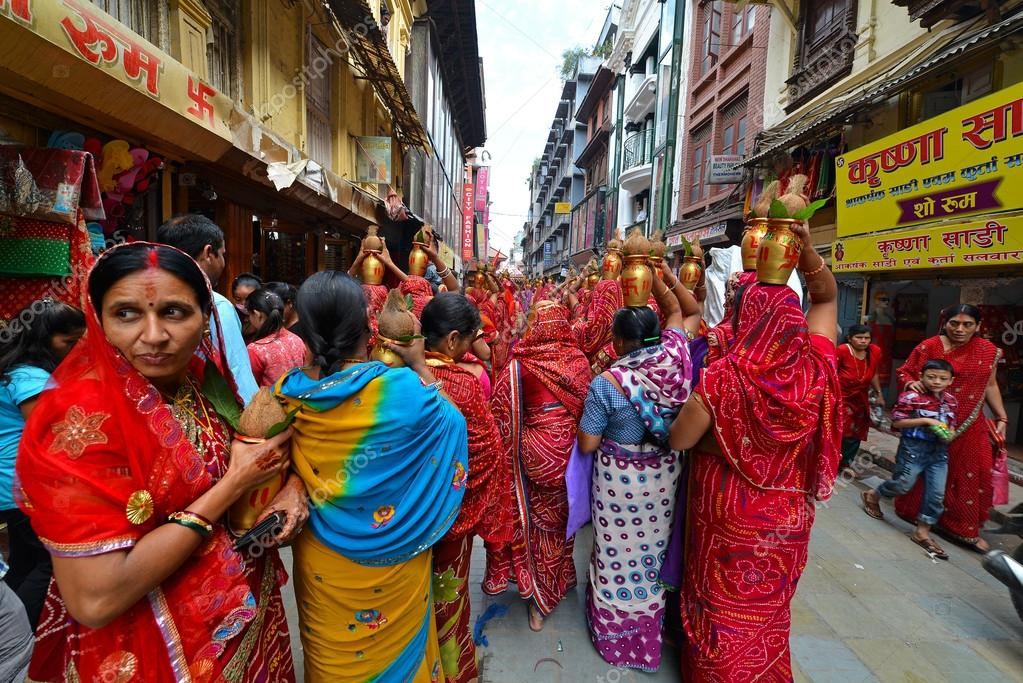human: (13, 225, 303, 683), (268, 255, 467, 683), (660, 264, 852, 683), (579, 291, 684, 672), (500, 295, 609, 637), (887, 300, 1020, 560), (852, 356, 960, 572)
